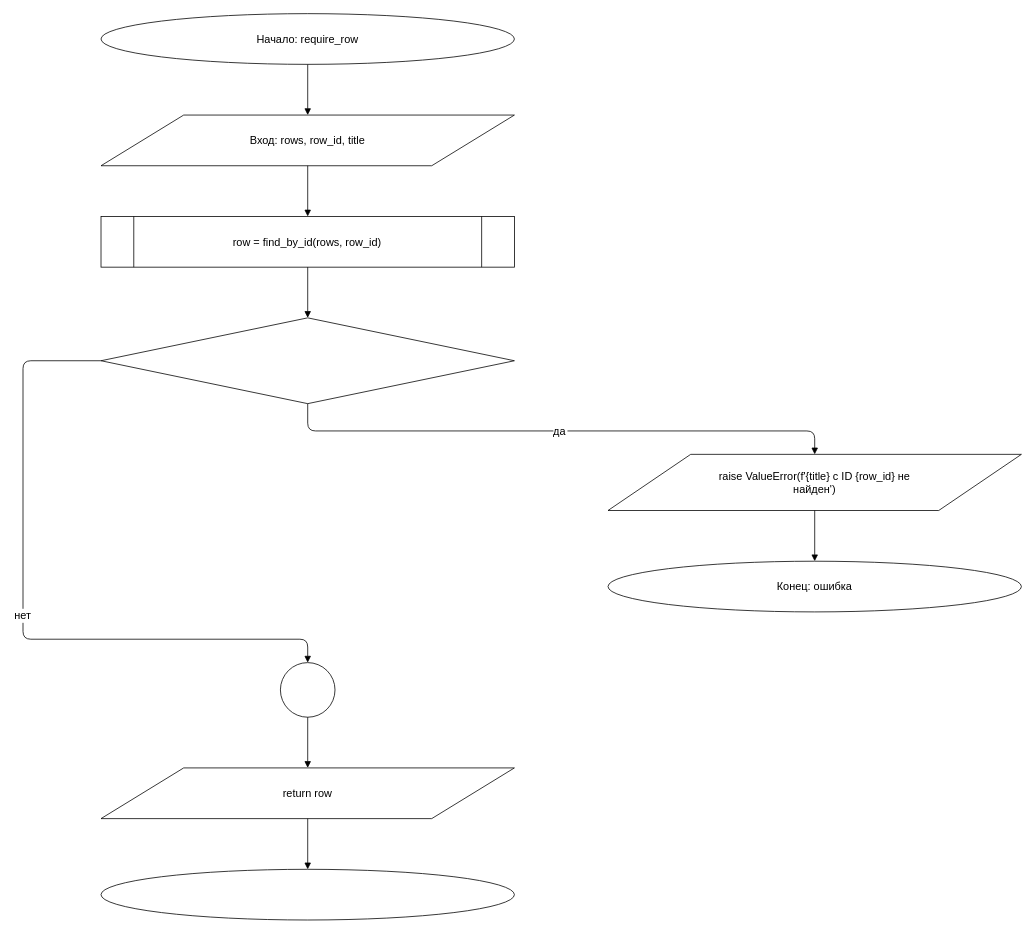
The diagram is 1035 pixels wide and 934 high, and some of its shapes have lost their labels. Each missing label, with the centre of its shape:
"N7" goes at (307,689).
"row is None?" goes at (307,360).
"Конец" goes at (307,894).
